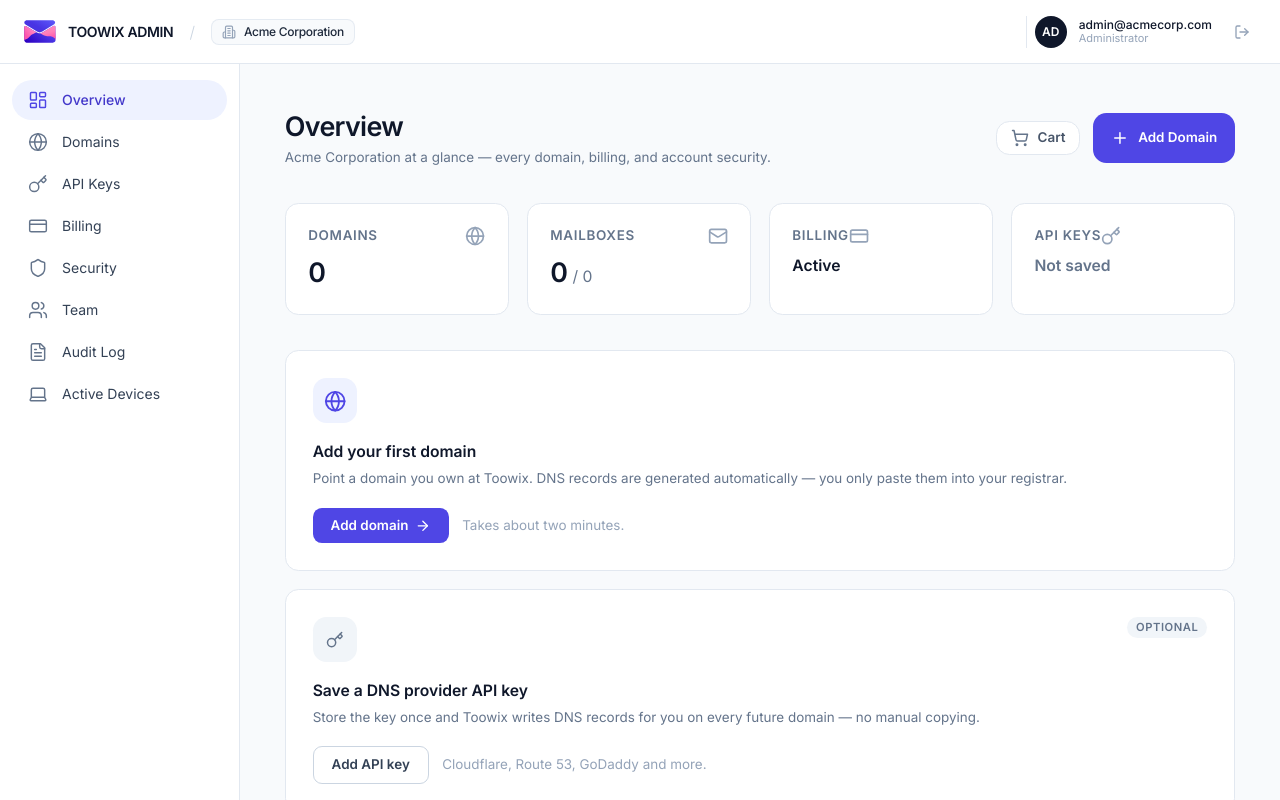
TenantHomeView Component › shows the setup task cards on Overview instead of the domains table when the tenant has zero domains
Check: the heading "Overview" is shown, box [285,110,403,142]
Check: the text "Not saved" is shown, box [1034,255,1111,278]
Click the button "Domains" at (120, 142), box [12,122,227,162]
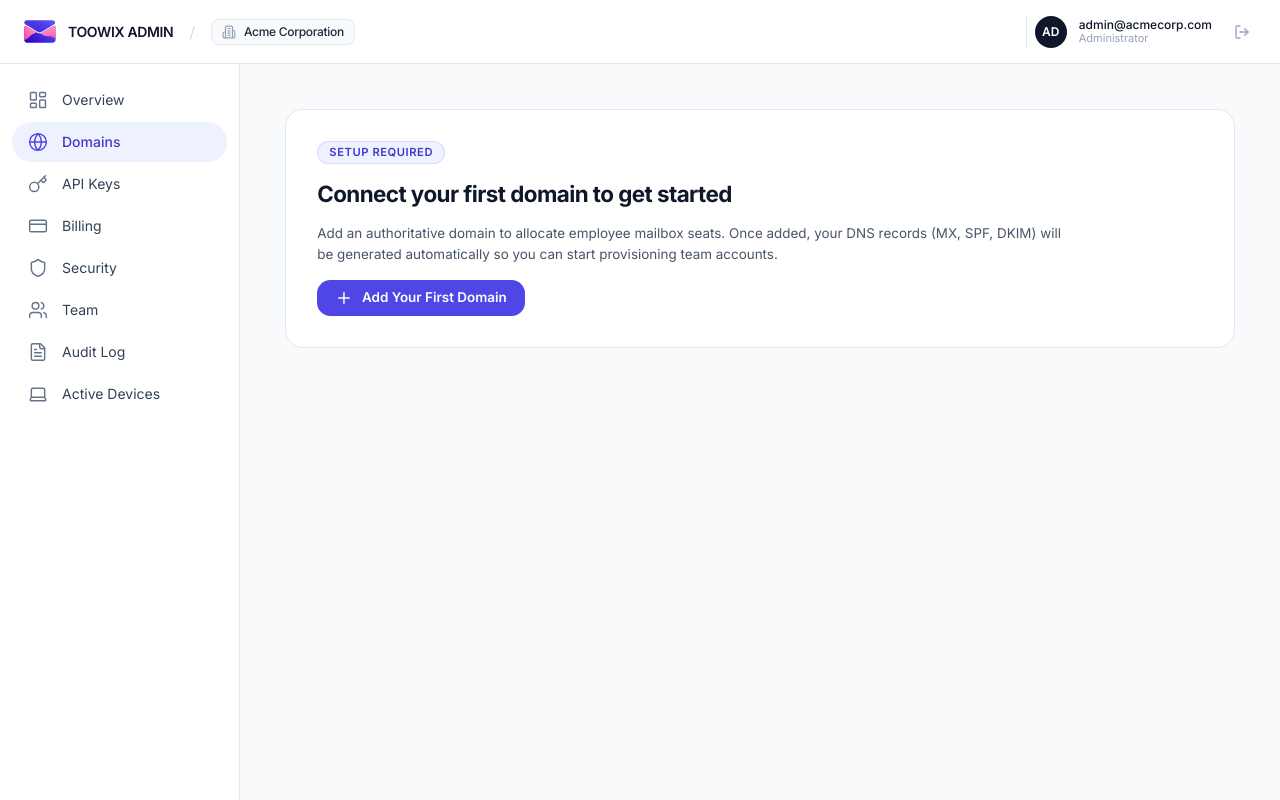
Check: the heading "Connect your first domain to get started" is shown, box [317,180,732,207]
